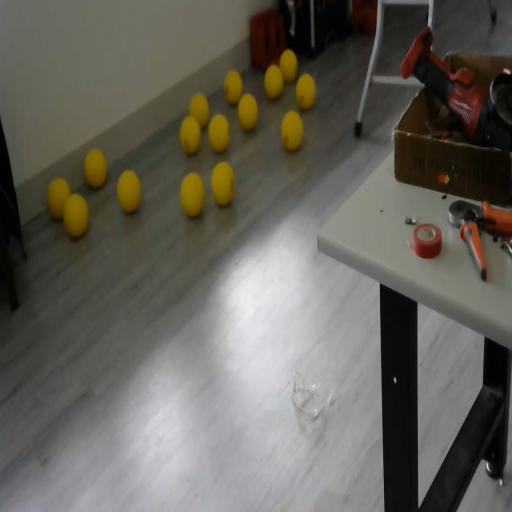FUEL: (62, 192, 90, 239), (179, 170, 206, 218), (210, 160, 236, 207), (116, 168, 142, 213), (83, 147, 108, 189), (280, 110, 304, 152), (208, 112, 230, 153), (237, 92, 259, 131), (189, 91, 210, 129), (295, 72, 316, 110), (263, 63, 284, 100), (278, 48, 298, 82), (224, 70, 242, 104)
